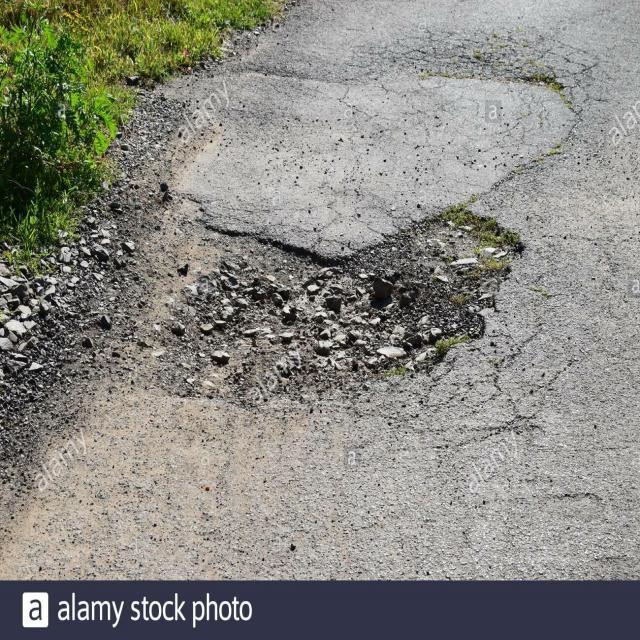Buraco: (131, 190, 527, 413)
